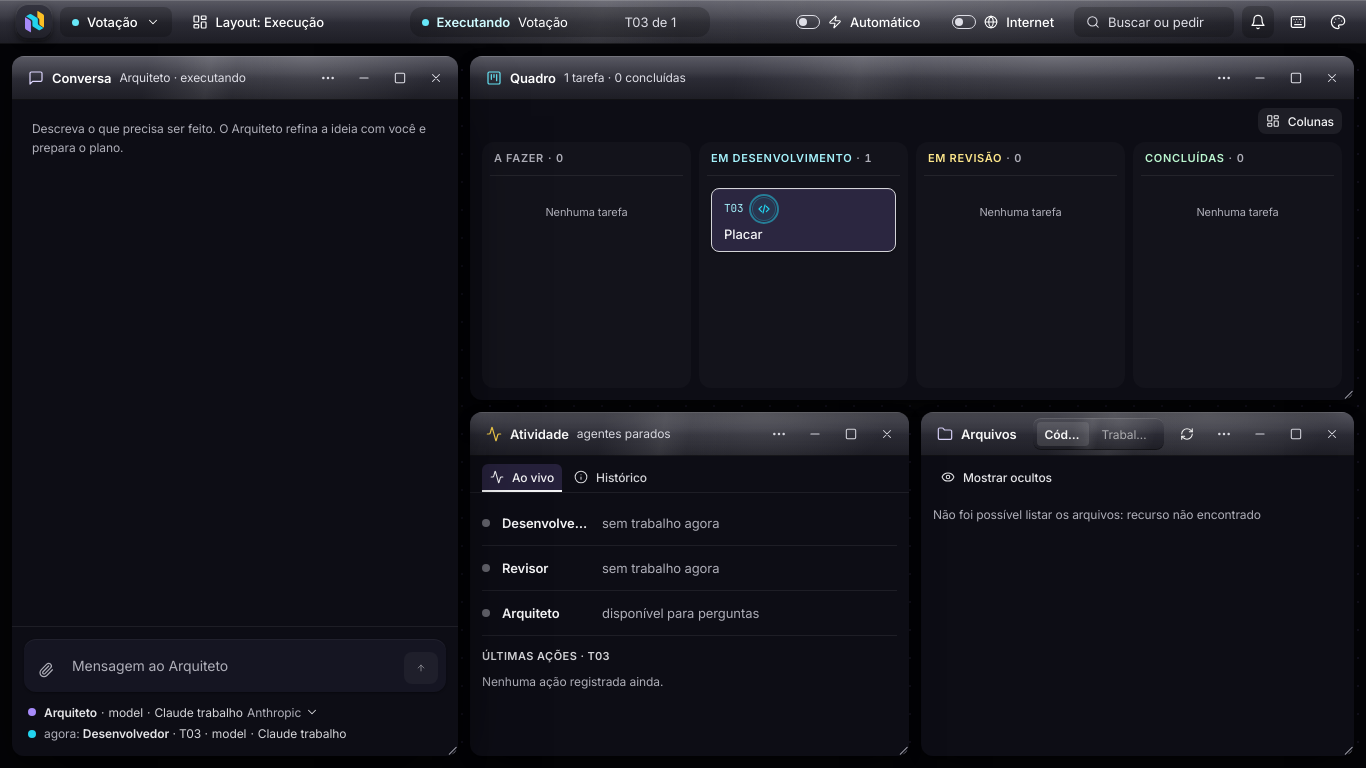
Test: cartão da pausa por cobrança com a troca da conexão do papel › com a execução rodando, o painel avisa que a troca vale quando ela recomeçar
Click the button "Arquiteto · model · Claude trabalho Anthropic": click(174, 712) [24, 700, 323, 724]
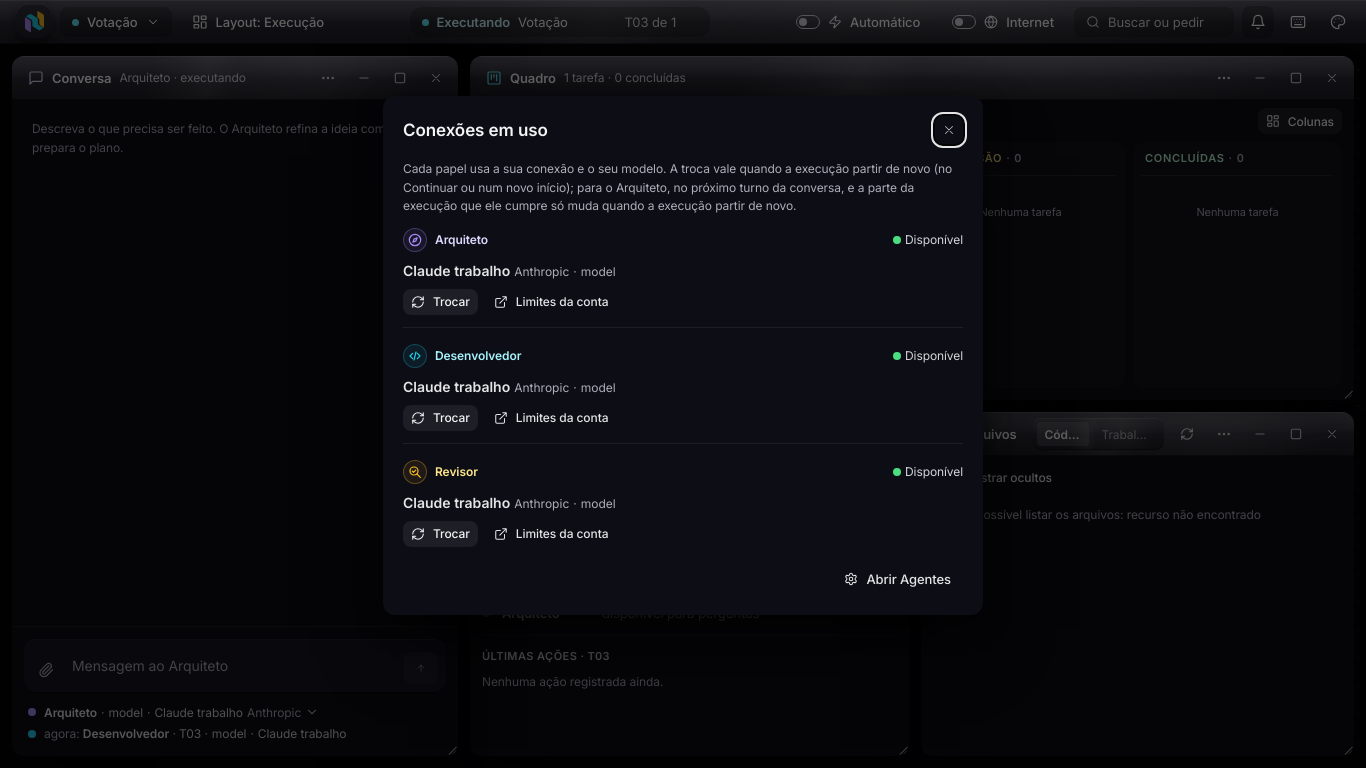
Result: the text "quando a execução partir de novo" is shown at [403, 161, 952, 213]
Click the 2nd button "Trocar": click(440, 418) [403, 405, 478, 431]
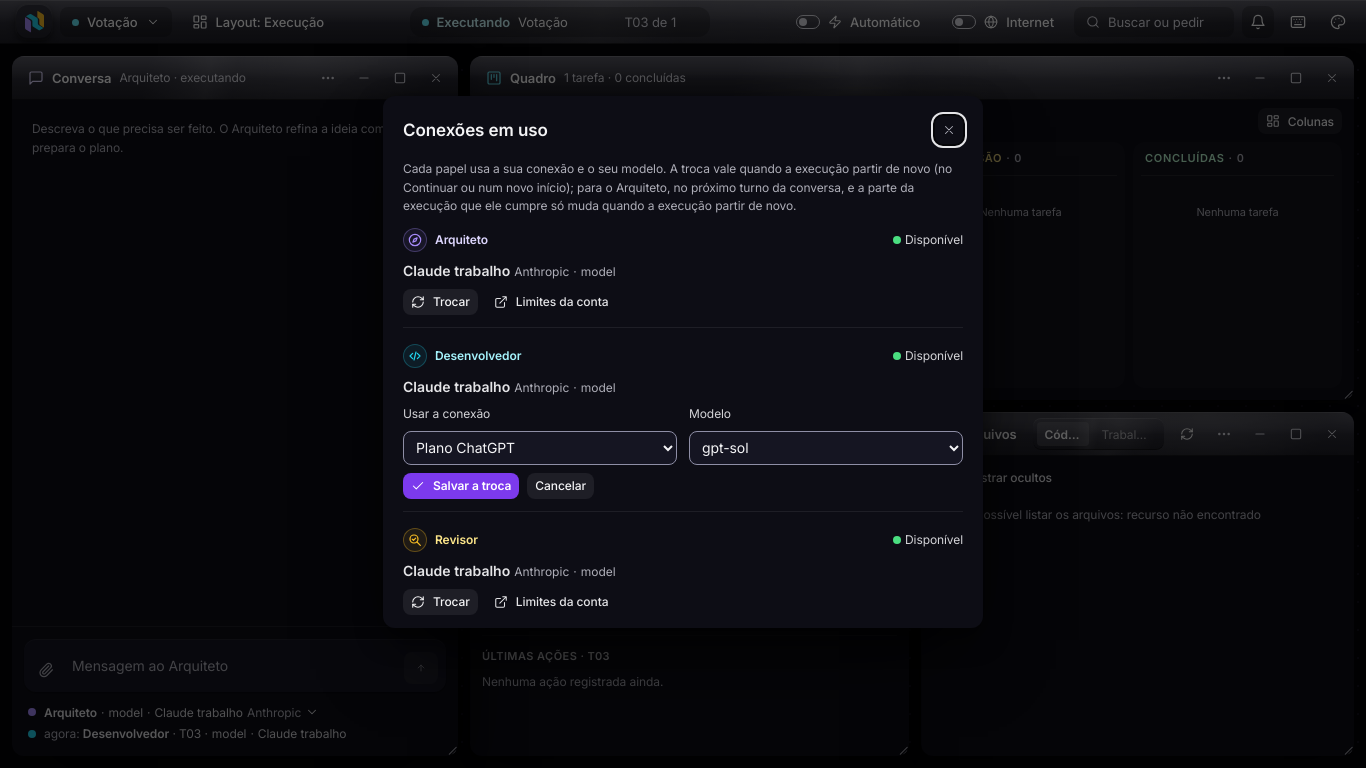
Click the button "Salvar a troca": click(461, 486) [403, 473, 519, 499]
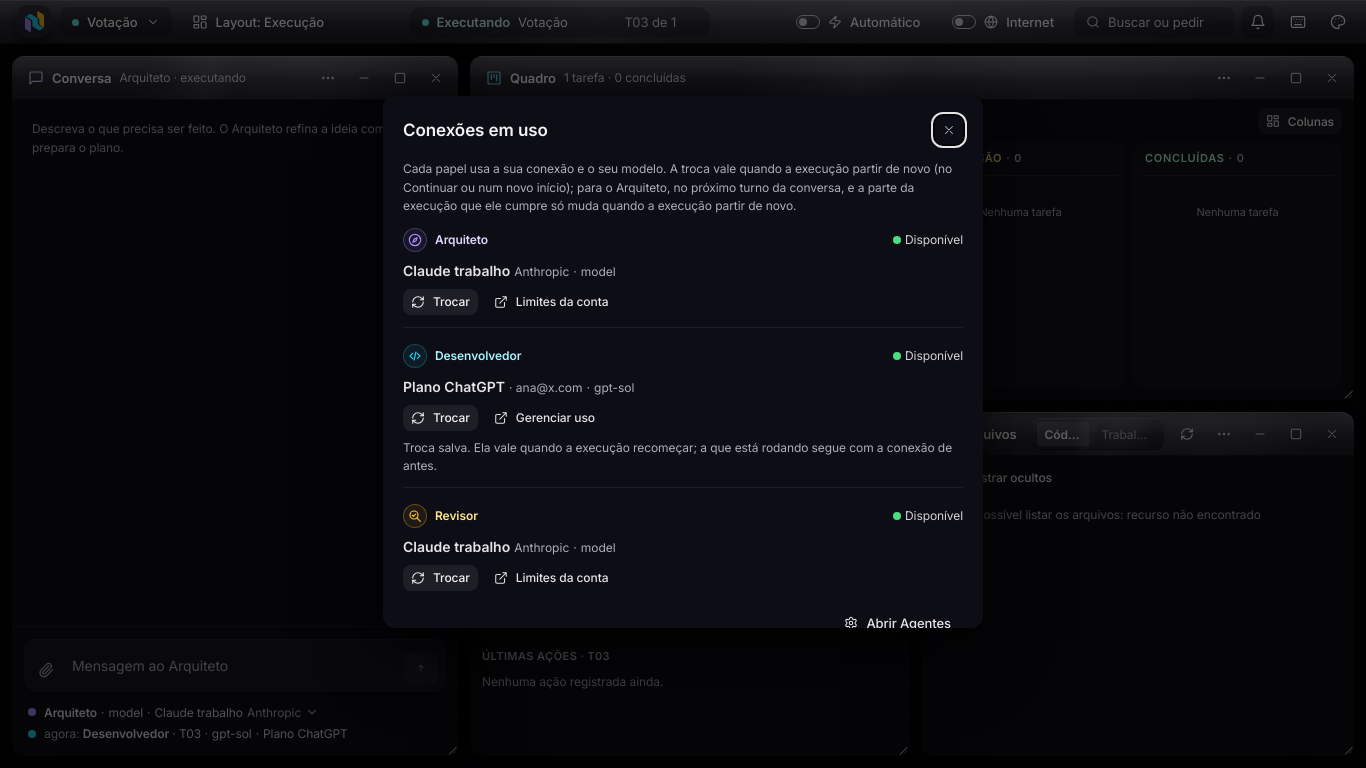
Result: the message shows "Troca salva. Ela vale quando a execução recomeçar; a que está rodando segue com a conexão de antes." at [403, 440, 952, 473]
